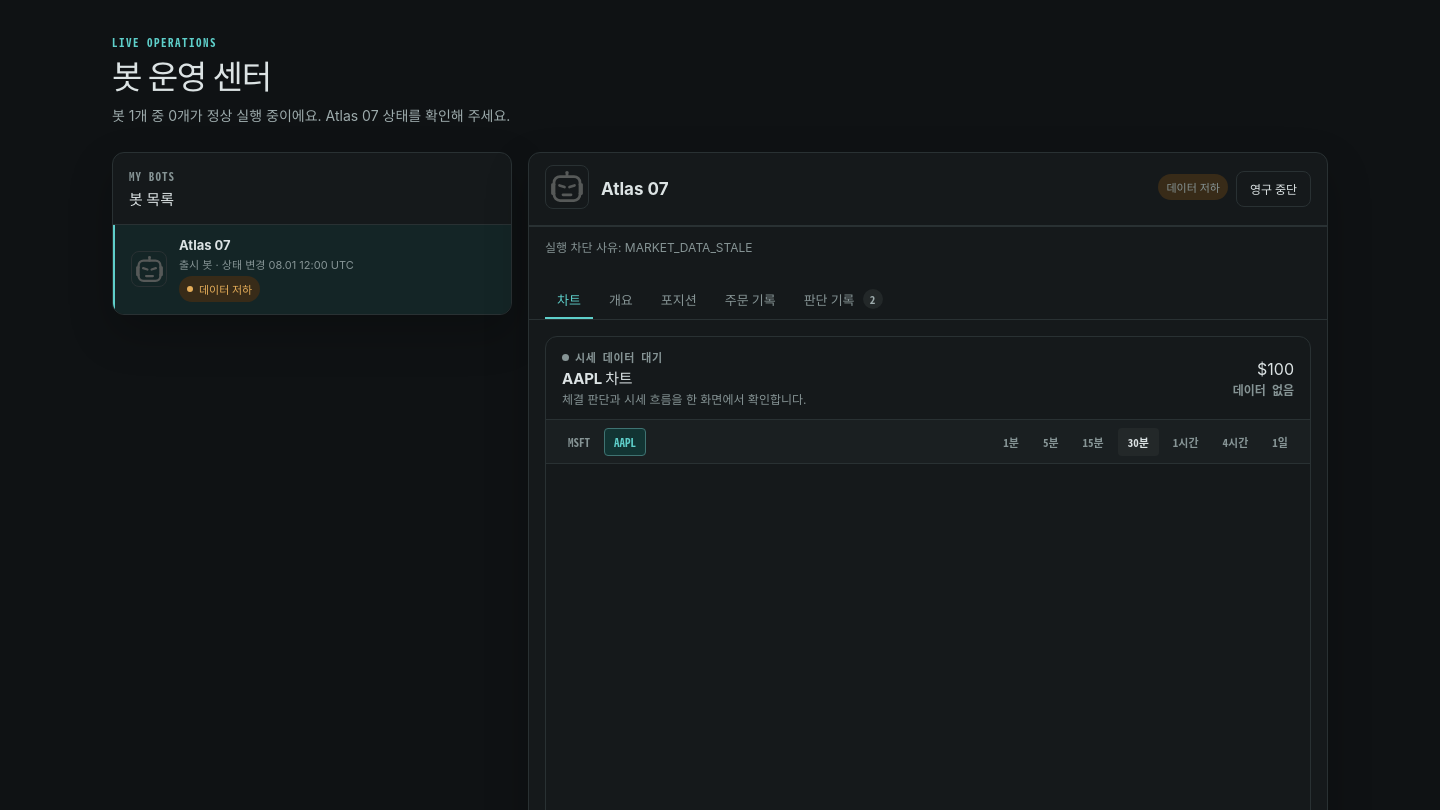
it: Bot operations › polls live operation state and appends judgment events once by sequence
Expected: the text "데이터 저하" below "봇 목록" is shown, [199,283,252,297]
Expected: the text "실행 차단 사유: MARKET_DATA_STALE" is shown, [529,226,1327,273]
Click the tab "판단 기록 2" at (843, 300), box [792,281,894,319]
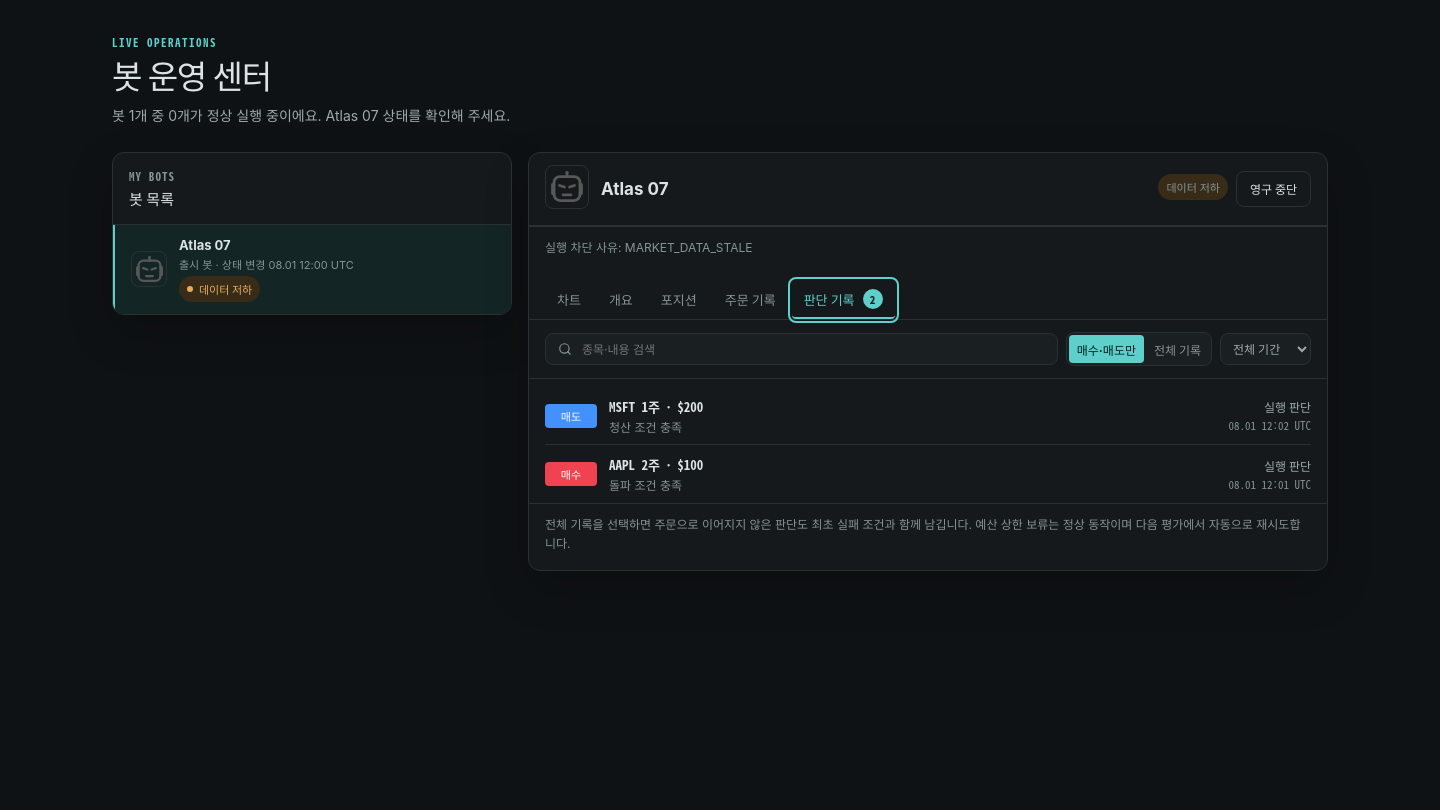
Expected: the text "MSFT 1주 · $200" is shown, [609,397,703,416]
Expected: the text "AAPL 2주 · $100" is shown once, [609,455,703,474]
